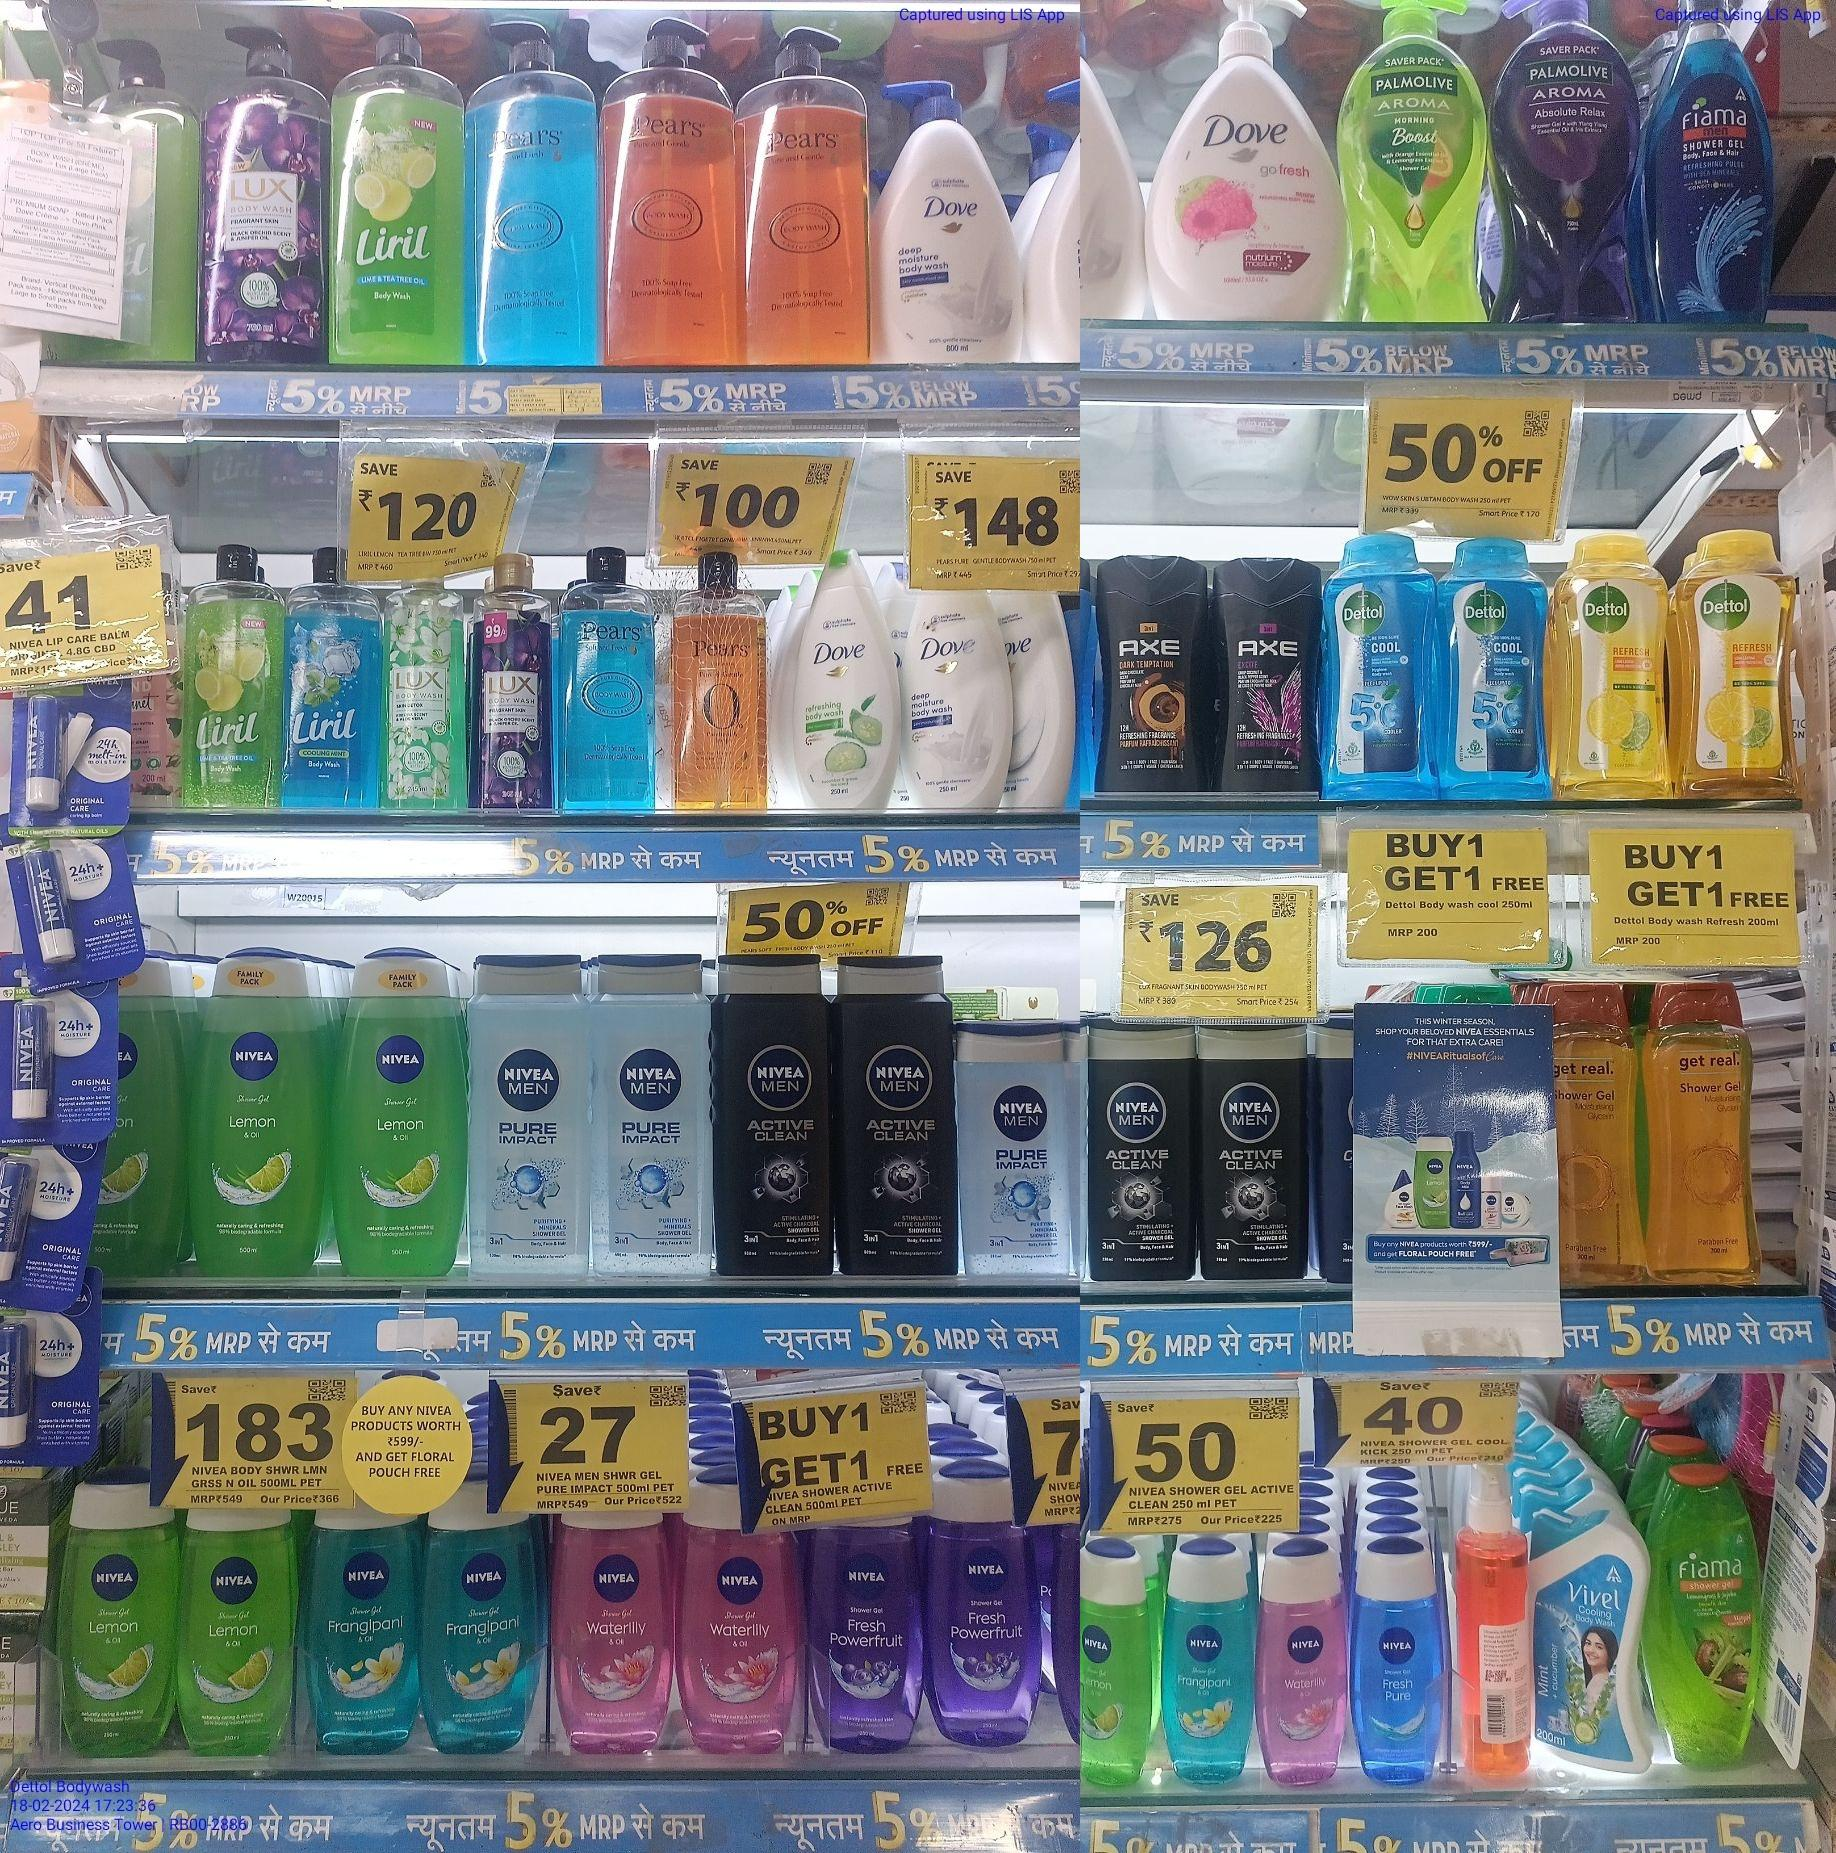Dettol_Bodywash_Cool: (1438, 536, 1554, 805), (1323, 528, 1434, 800)
Dettol_Bodywash_Refresh: (1681, 526, 1797, 797), (1562, 536, 1675, 805)
Dove_Refreshing_Body_Wash_250ML: (795, 545, 896, 807)
Fiama_Shower_Gel_Lemongrass_and_Jojoba_250ML: (1643, 1466, 1767, 1777)
Liril_Cooling_Mint_Body_Wash_250ML: (170, 545, 281, 809), (291, 553, 380, 810)
Lux_Black_Orchid_Scent_and_Juniper_Oil_Body_Wash_245ML: (472, 550, 555, 814)
Lux_Body_Wash_Skin_Detox_Freesia_Scent_and_Alove_Vera_245ML: (388, 585, 467, 810)
Nivea_Shower_Gel_Frangipani_and_Oil_250ML: (304, 1502, 422, 1750), (427, 1508, 533, 1761), (1162, 1537, 1253, 1787)
Nivea_Shower_Gel_Fresh_Powerfruit_250ML: (935, 1468, 1041, 1755), (810, 1520, 928, 1759)
Nivea_Shower_Gel_Lemon_and_Oil_250ML: (333, 950, 466, 1280), (197, 952, 323, 1281), (67, 1478, 175, 1761), (183, 1502, 294, 1754), (1078, 1530, 1153, 1794)
Nivea_Shower_Gel_Waterlily_and_Oil_250ML: (553, 1500, 676, 1764), (683, 1485, 800, 1750), (1258, 1537, 1347, 1786)
Pears_Pure_Glycerin_and_Mint_Extracts_Body_Wash_250ML: (558, 545, 659, 814)
